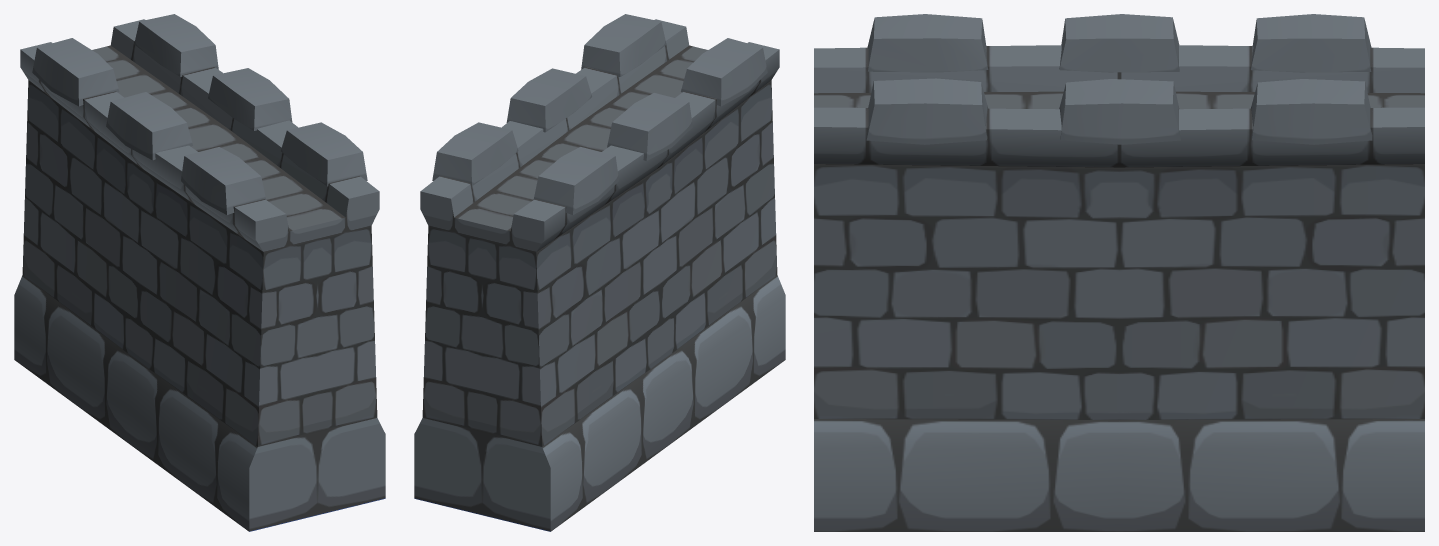
Rendered from Wall_B_wall.FBX.
The picture shows the model from 3 angles, left to right: view 1: azimuth 30°, elevation 25°; view 2: azimuth 150°, elevation 25°; view 3: azimuth 270°, elevation 25°; orthographic projection. The views are drawn at different scales.
Parts seen in each view (by area): view 1: Wall_B_wall; view 2: Wall_B_wall; view 3: Wall_B_wall.
Part boxes in pixels (x1,y1,x2,y2): Wall_B_wall: (14,14,385,531); Wall_B_wall: (414,14,785,531); Wall_B_wall: (814,14,1424,531).
Size of the model in its own units: 216 by 466 by 600.
